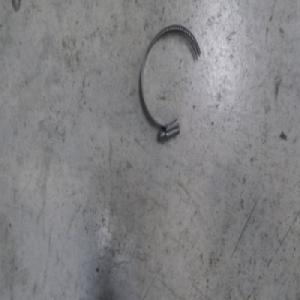AdjustableClamp: (138, 23, 201, 143)
